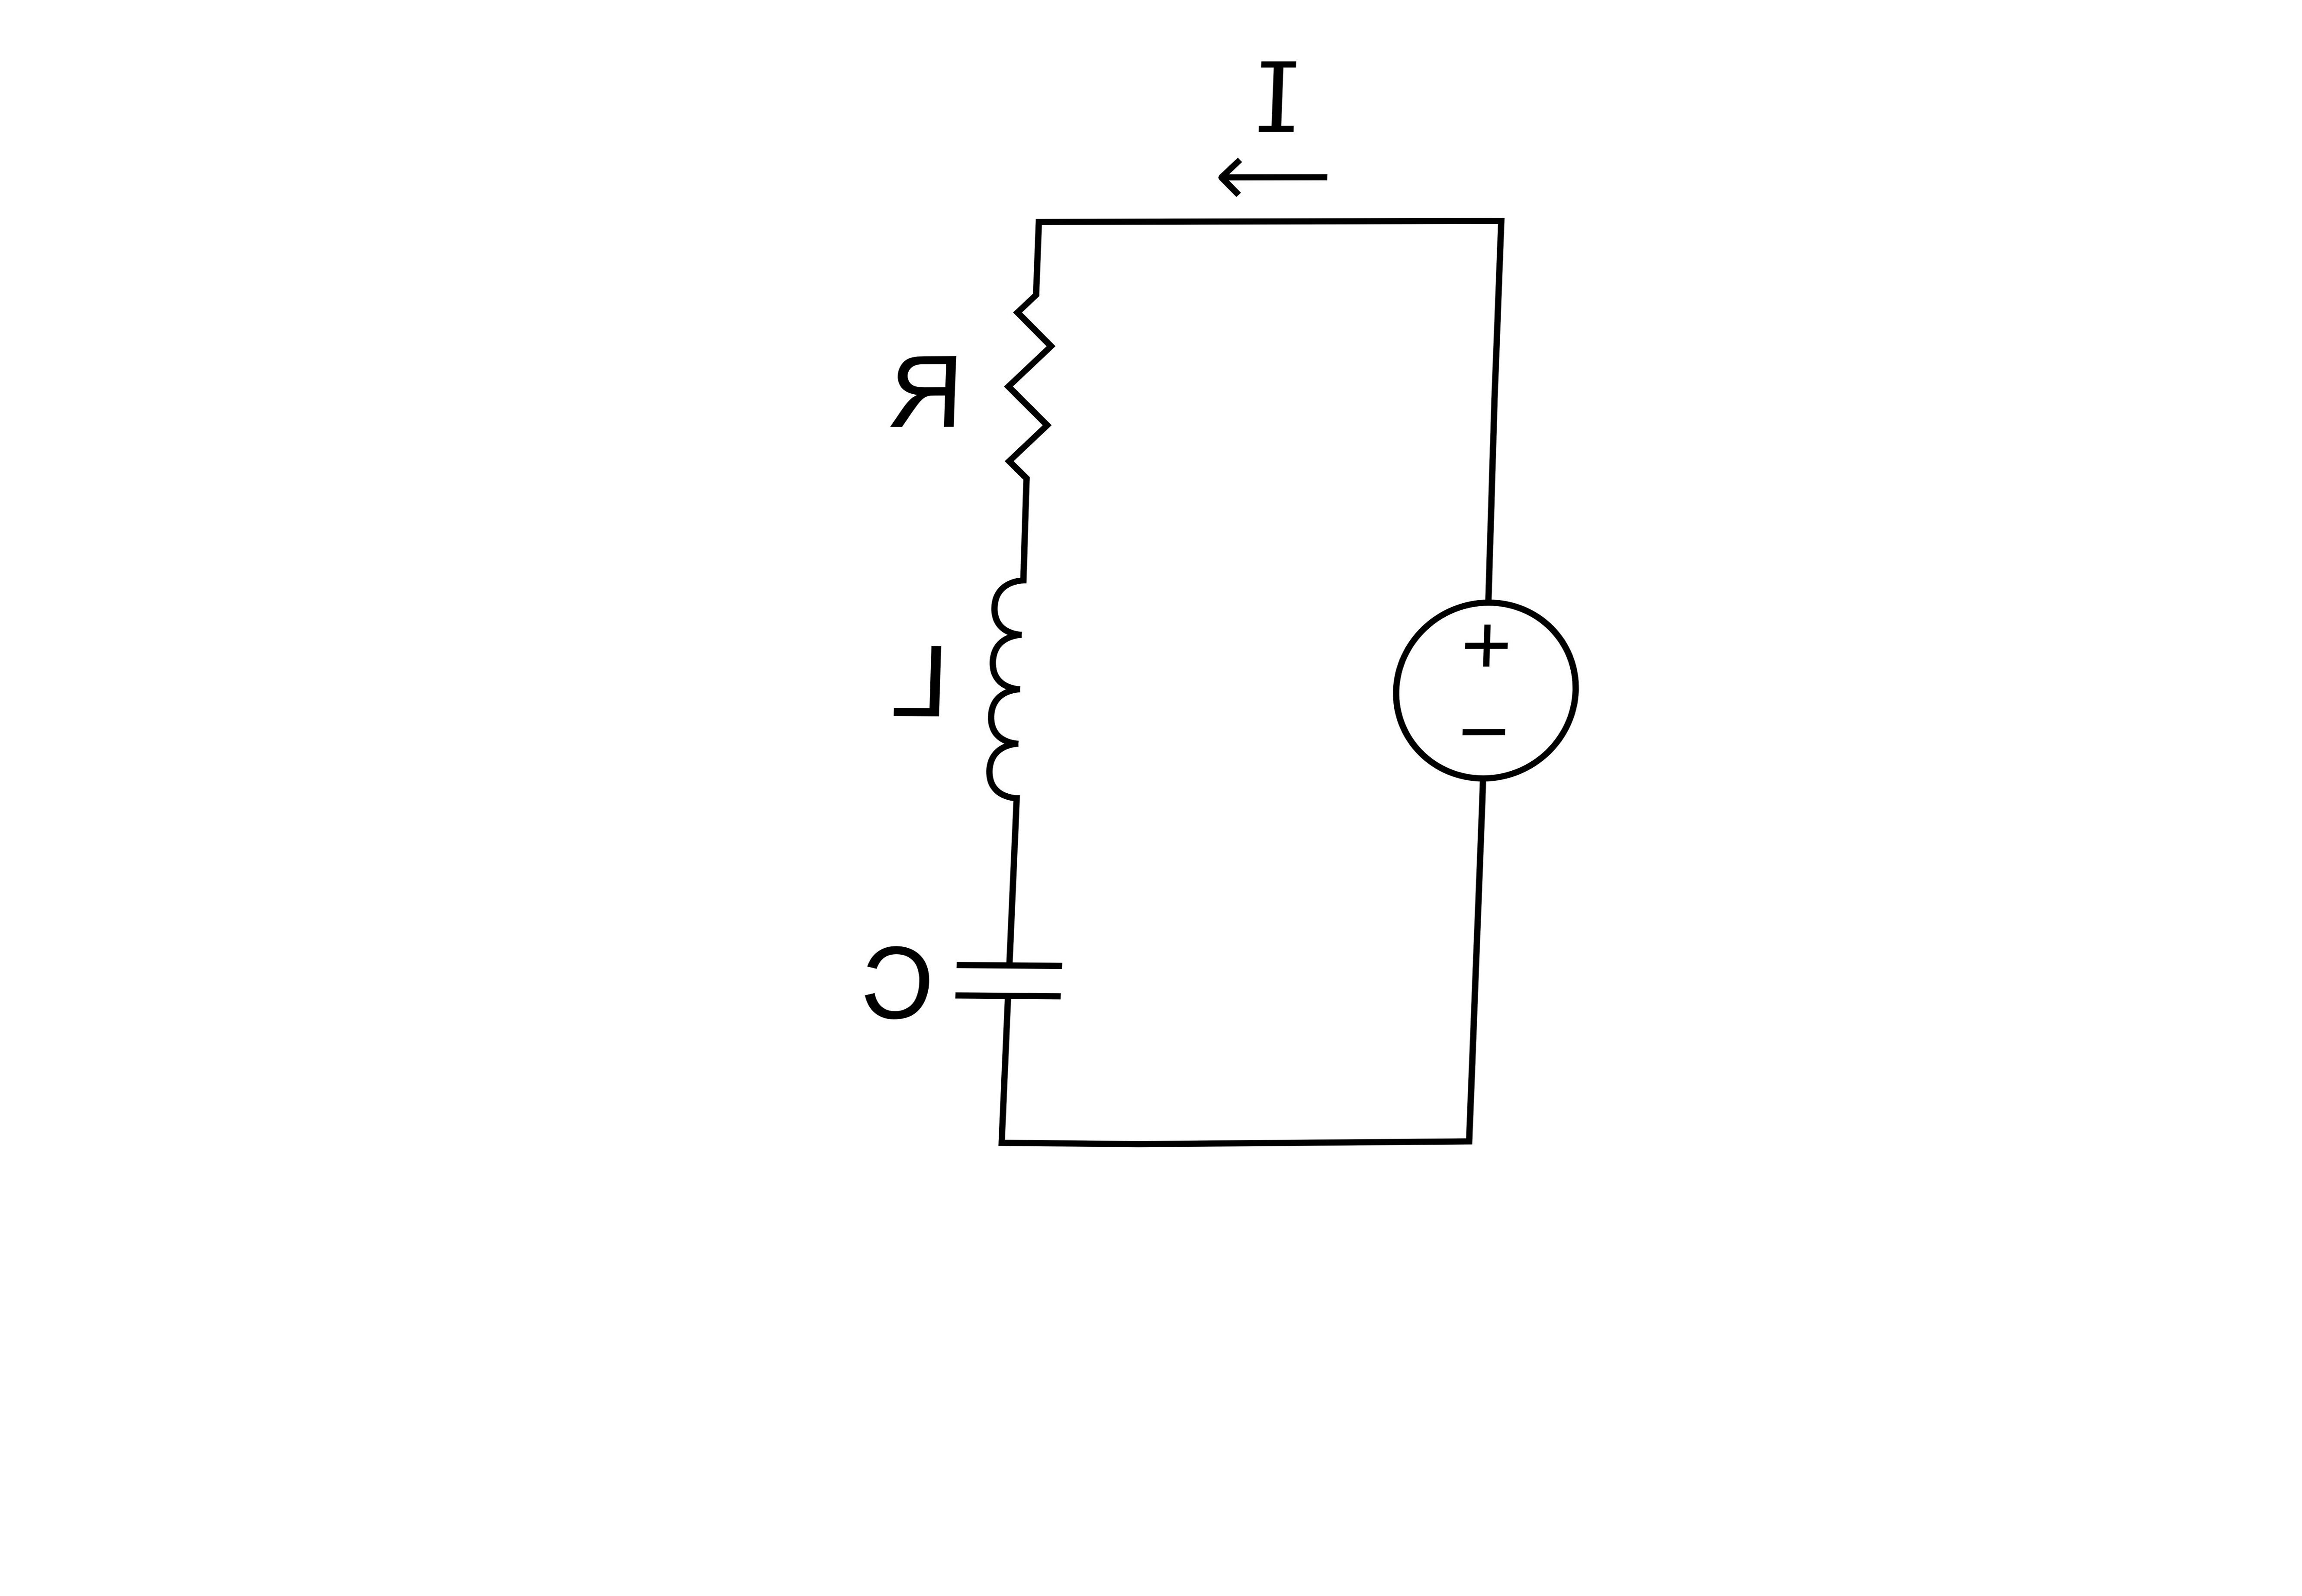Battery: (1328, 549, 1634, 814)
